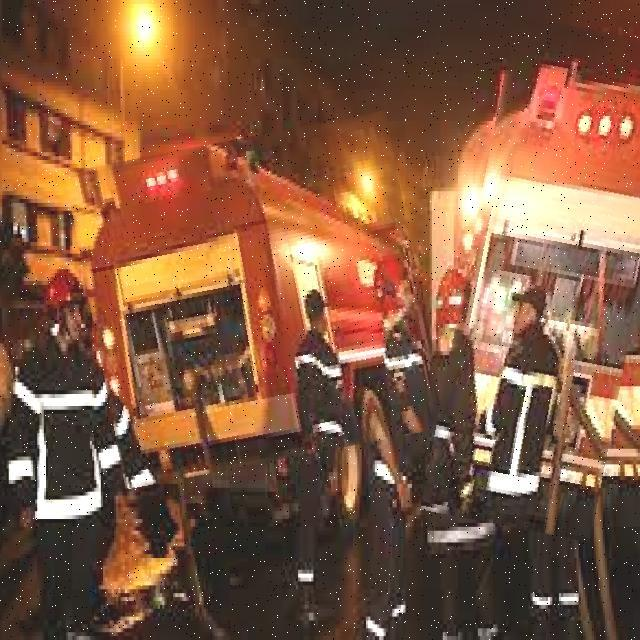pompier: (79, 124, 432, 475), (444, 21, 640, 536)
